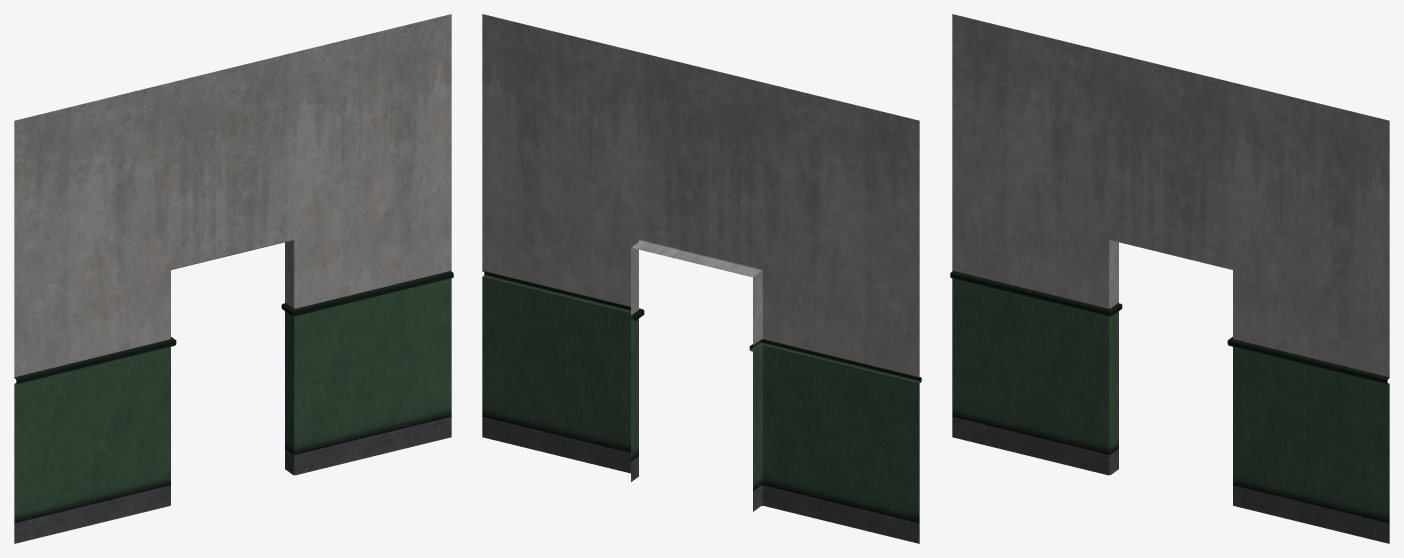
Rendered from Psychiatric_Ward_Infirmary_Wall_4m_Door_A.glb.
3 views of the same model, side by side, from view 1: azimuth 30°, elevation 25°; view 2: azimuth 150°, elevation 25°; view 3: azimuth 330°, elevation 25° (orthographic).
Parts seen in each view (by area): view 1: Psychiatric_Ward_Infirmary_Wall_4m_Door_A; view 2: Psychiatric_Ward_Infirmary_Wall_4m_Door_A; view 3: Psychiatric_Ward_Infirmary_Wall_4m_Door_A.
Part boxes in pixels (<box>): Psychiatric_Ward_Infirmary_Wall_4m_Door_A: <box>14,14,453,543</box>; Psychiatric_Ward_Infirmary_Wall_4m_Door_A: <box>482,14,921,543</box>; Psychiatric_Ward_Infirmary_Wall_4m_Door_A: <box>950,14,1389,543</box>.
Size of the model in its own units: 4 by 3.7 by 0.1737.
Materials: 1 (1 with a texture image).
